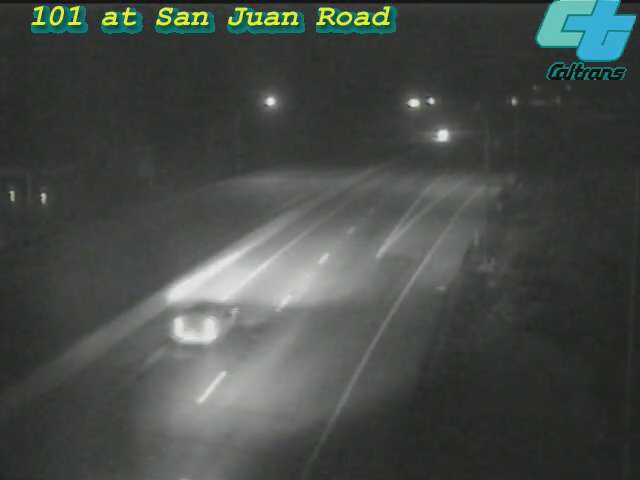vehicle: (147, 267, 257, 377), (418, 109, 468, 159)
